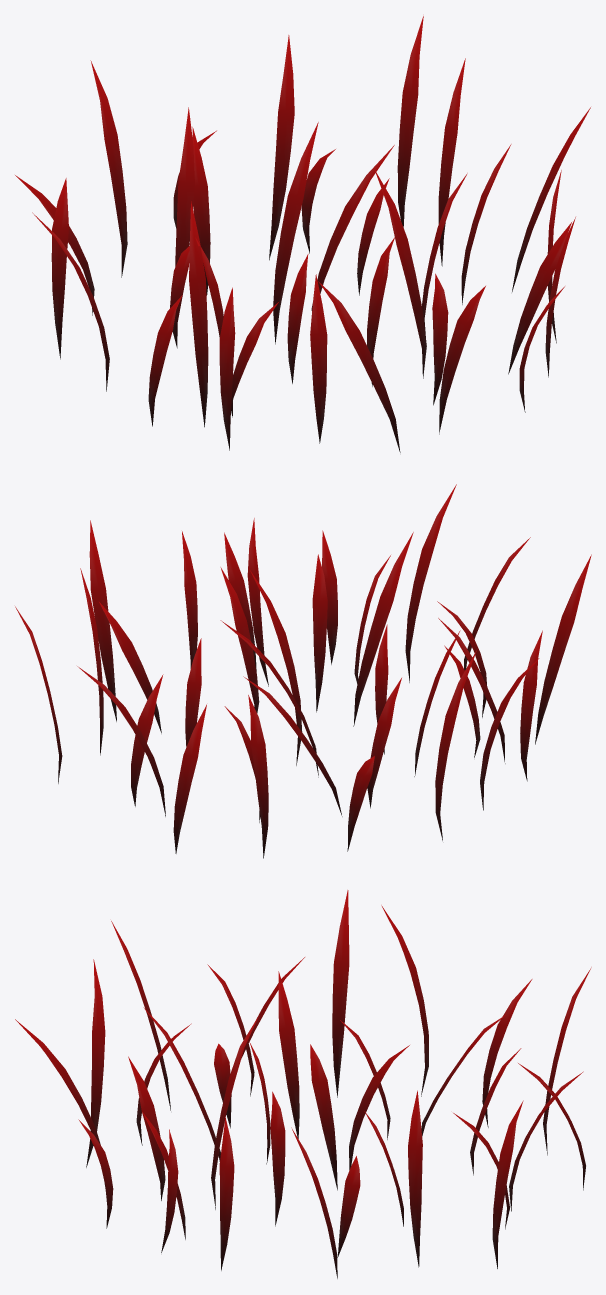
Rendered from grass01.fbx.
The picture shows the model from 3 angles, top to bottom: view 1: azimuth 30°, elevation 25°; view 2: azimuth 150°, elevation 25°; view 3: azimuth 270°, elevation 25°; orthographic projection. The views are drawn at different scales.
Visible parts, largest first — view 1: Grass; view 2: Grass; view 3: Grass.
Boxes of the visible parts, <box> form: Grass: <box>15,16,590,452</box>; Grass: <box>15,484,591,858</box>; Grass: <box>15,890,591,1278</box>.
Bounding box in the file's own units: 3.21 × 1.19 × 3.29.
